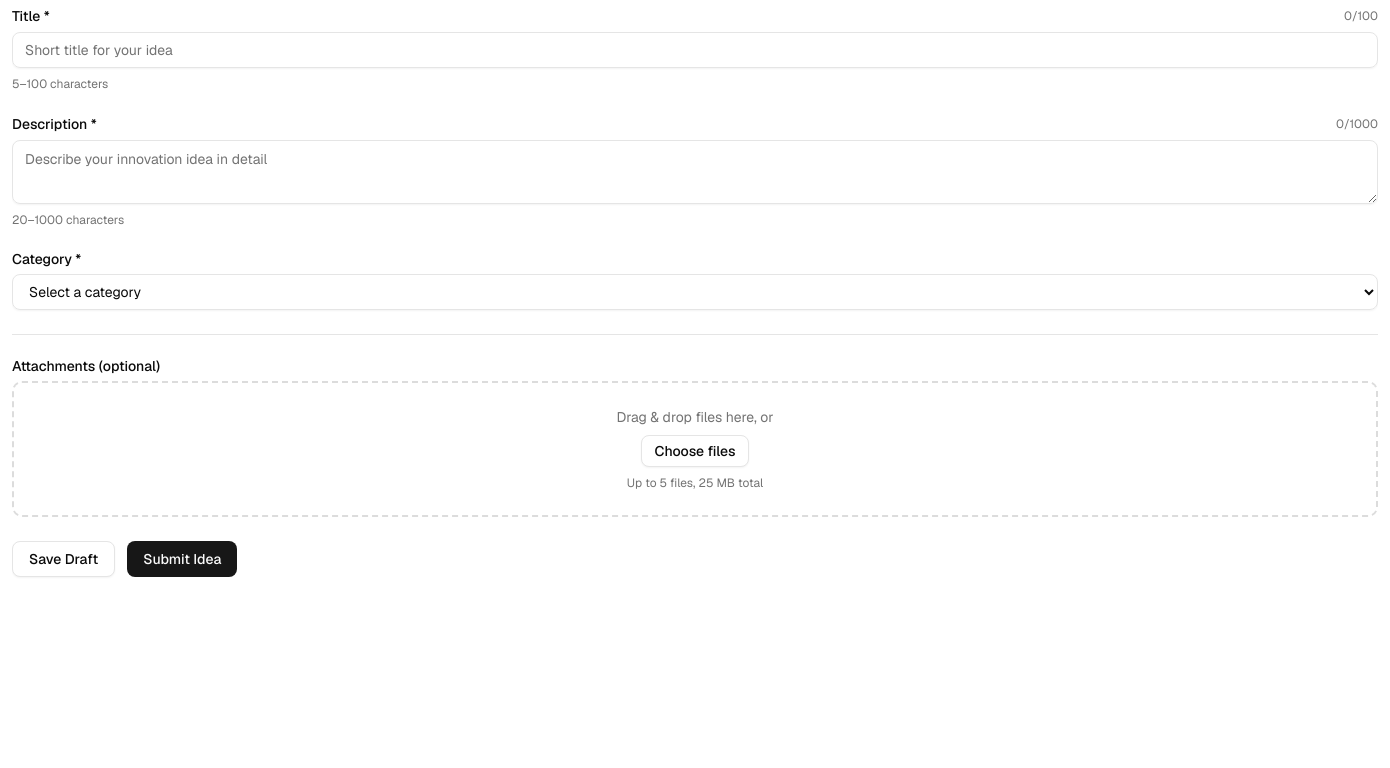
Test: IdeaForm — extended coverage › displays title character count
Check: the text "0/100" is shown, box [1344,8,1378,24]
In the field labelled "Title *": (695, 50) [12,32,1378,68], type "Hello"
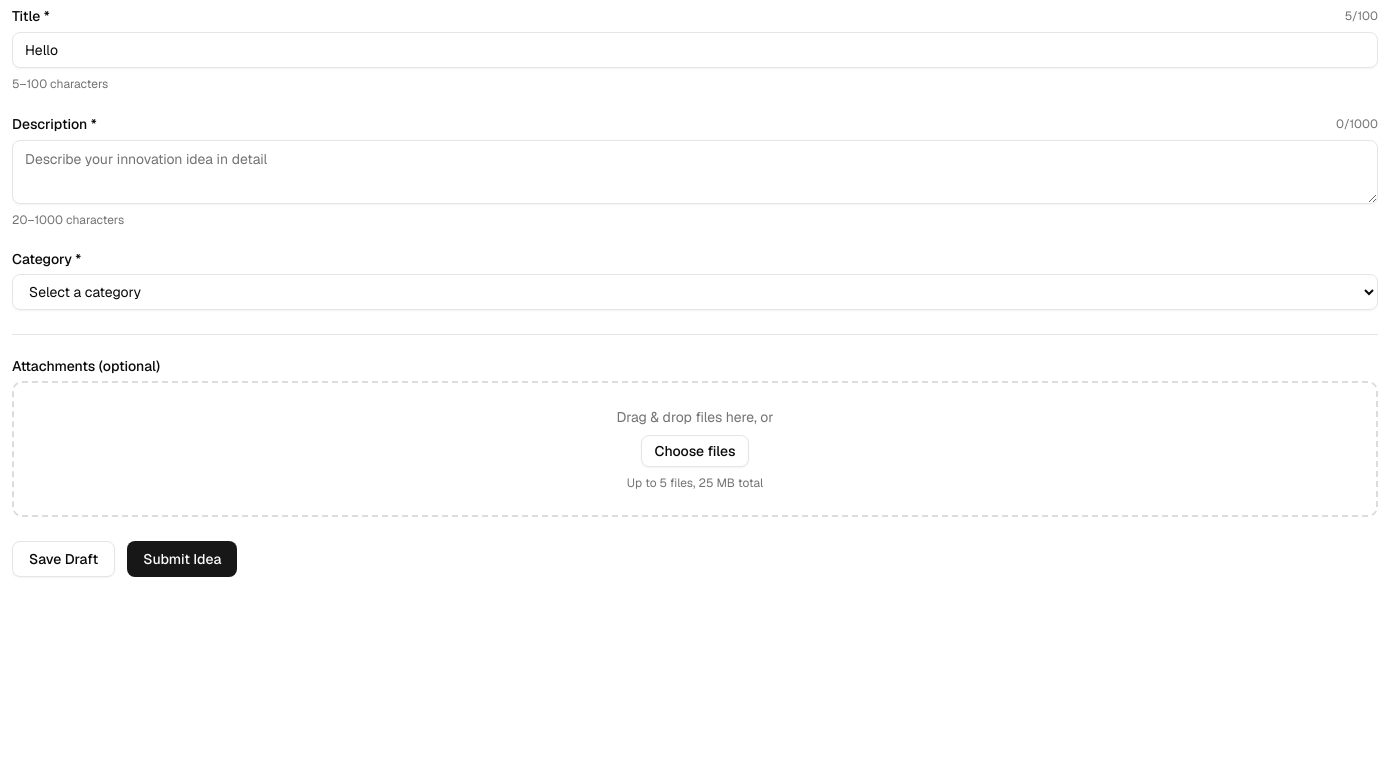
Check: the text "5/100" is shown, box [1345,8,1378,24]
